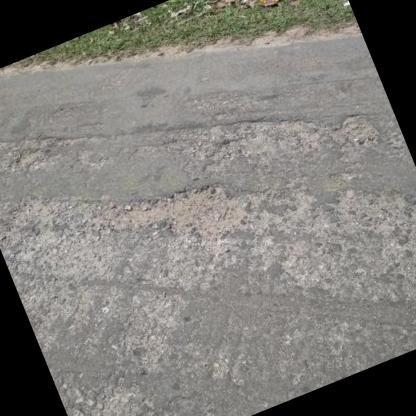pothole: (100, 160, 252, 269), (200, 87, 328, 181), (333, 107, 382, 155)
